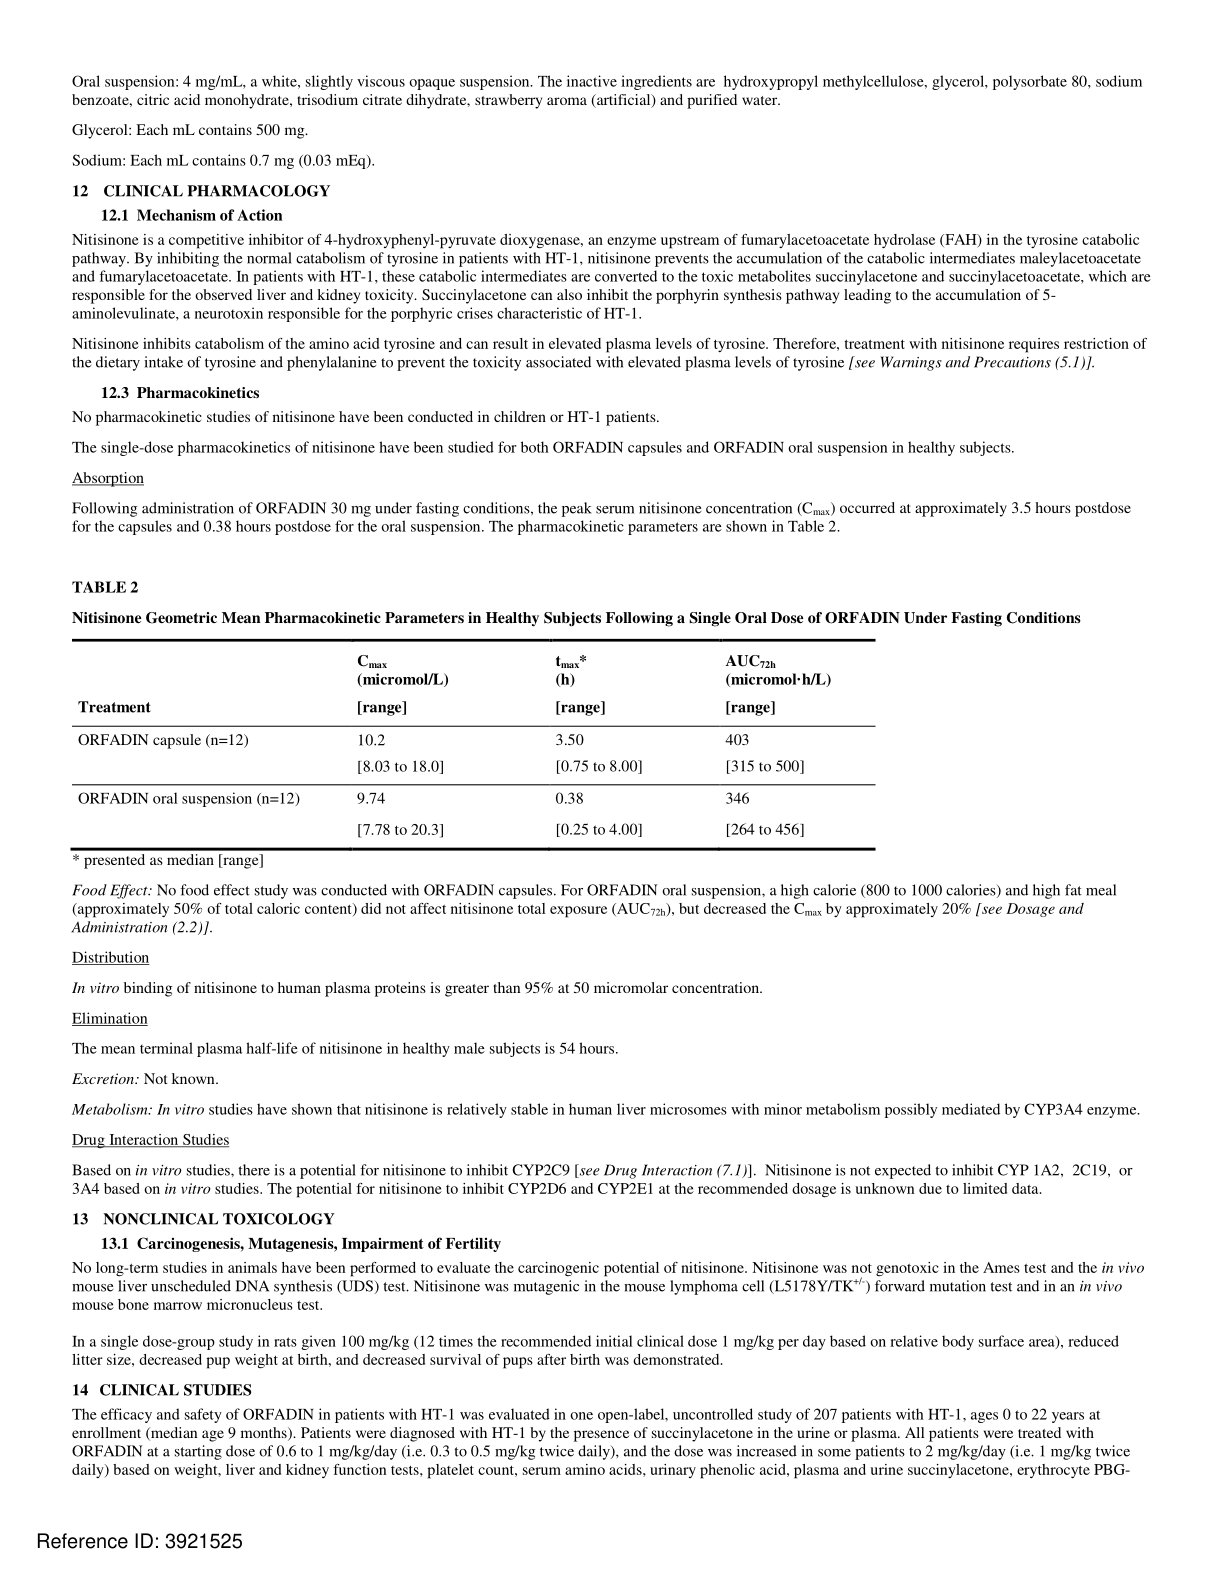partial_lined: (69, 636, 877, 852)
